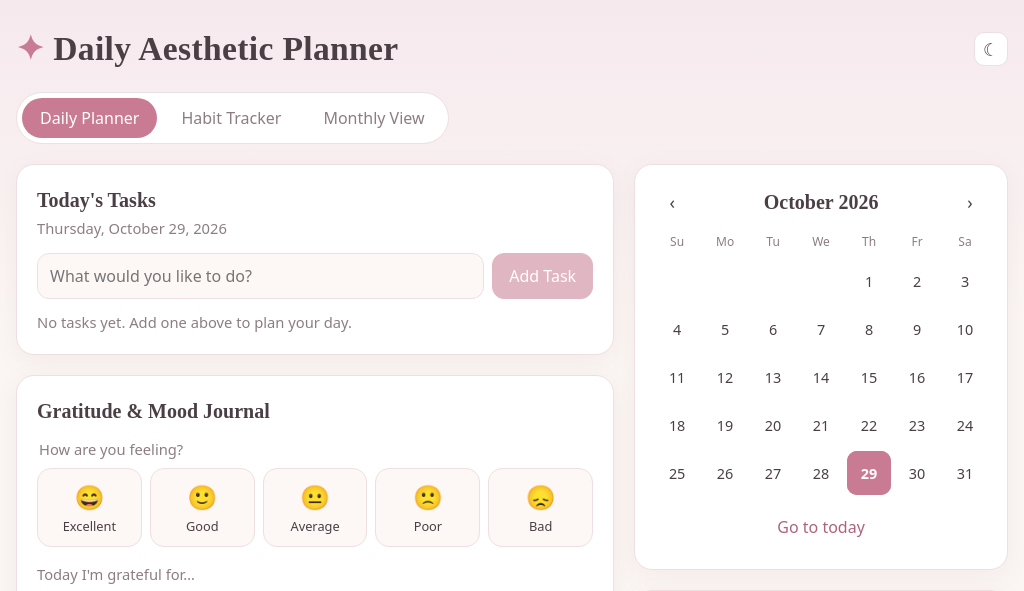
Test: Daily planner › creates a task and saves it through the API
This screenshot has width=1024, height=591.
Type "Visit the park" into the field named "New task" at x=261, y=276, box [37, 254, 484, 300]
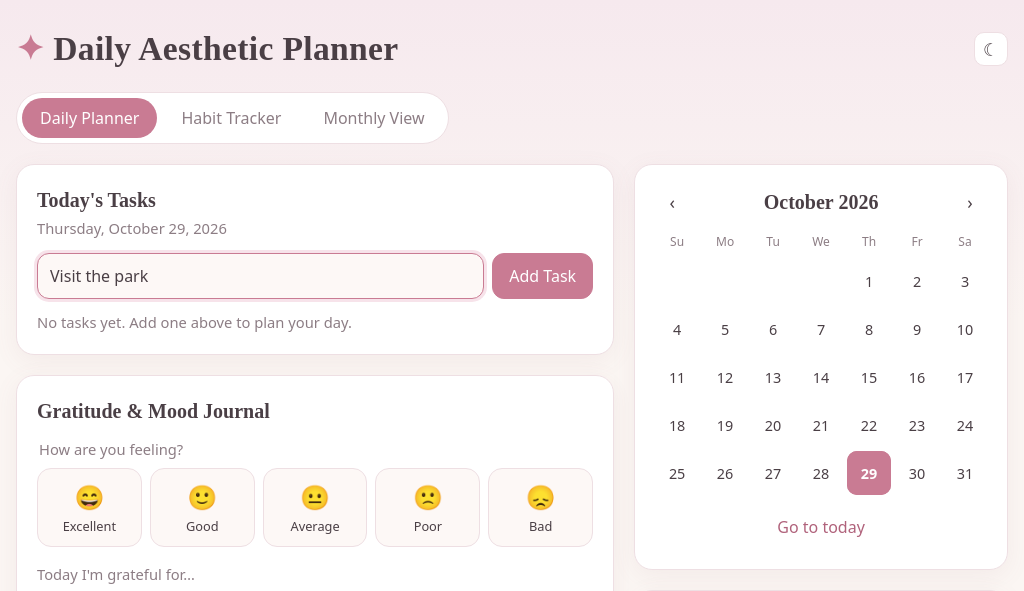
Click the button "Add Task" at x=543, y=276, box [492, 254, 593, 300]
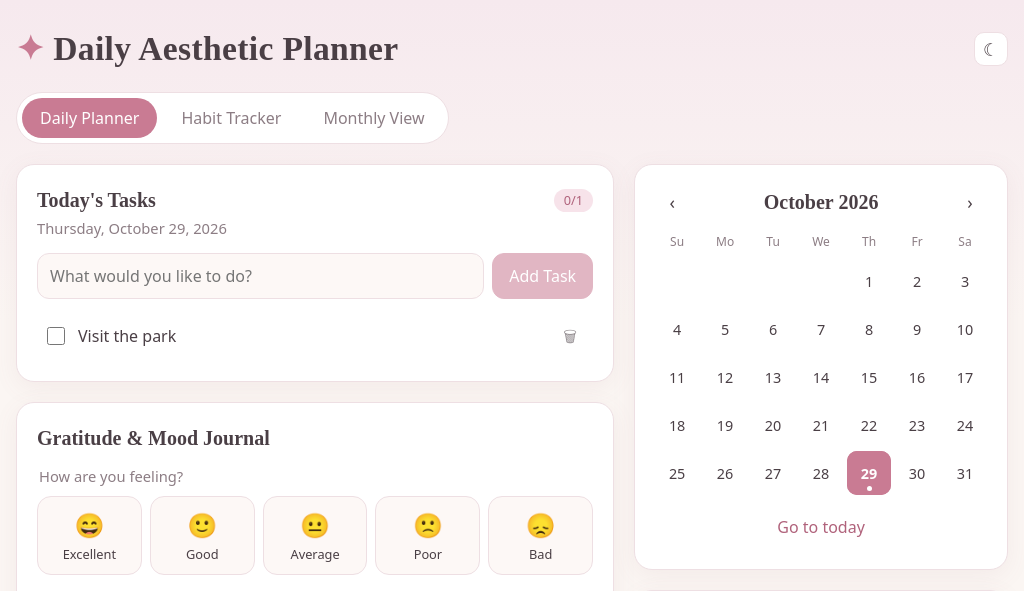
Expected: the checkbox labelled "Visit the park" is shown, [47, 328, 65, 346]
Expected: the field named "New task" is empty, [37, 254, 484, 300]
